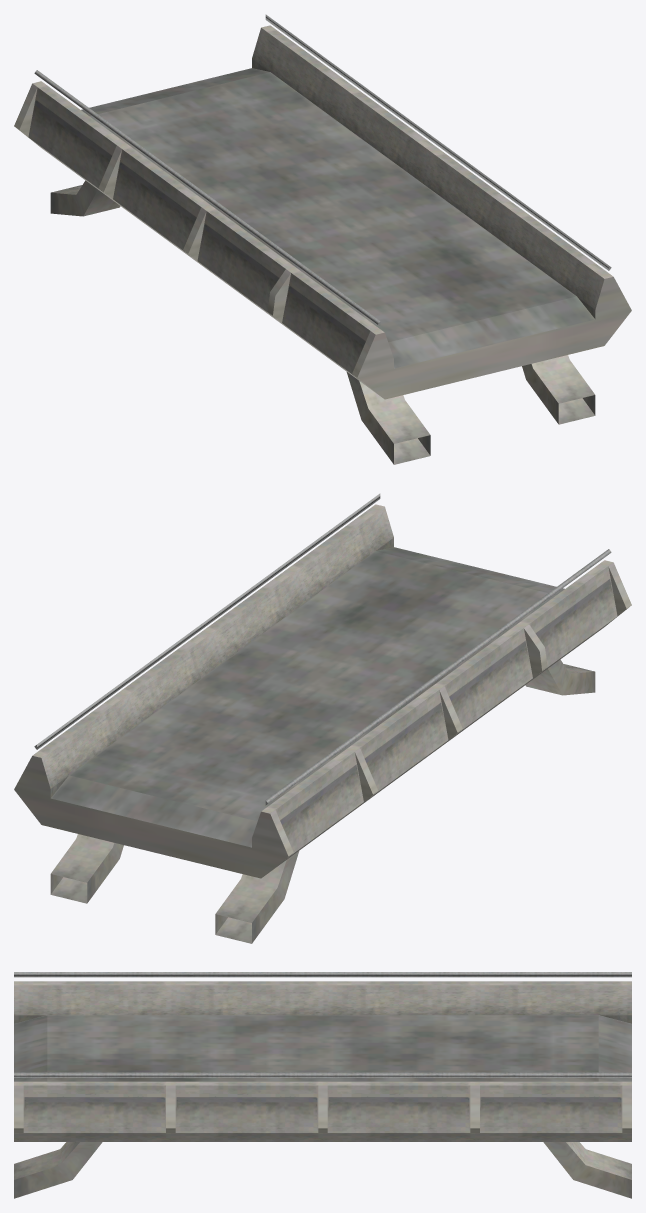
The model's file is thm_corl_imprv_bridge_sm_s02_l2.fbx.
3 views of the same model, one above another, from view 1: azimuth 30°, elevation 25°; view 2: azimuth 150°, elevation 25°; view 3: azimuth 270°, elevation 25° (orthographic). The views are drawn at different scales.
Visible parts, largest first — view 1: mesh_node; view 2: mesh_node; view 3: mesh_node.
Boxes of the visible parts, box(x1,y1,x2,y2) form: mesh_node: box(14, 14, 631, 464); mesh_node: box(14, 493, 631, 943); mesh_node: box(14, 972, 631, 1198).
Size of the model in its own units: 7.5 by 3.84 by 16.25.
Materials: 1 (1 with a texture image).
